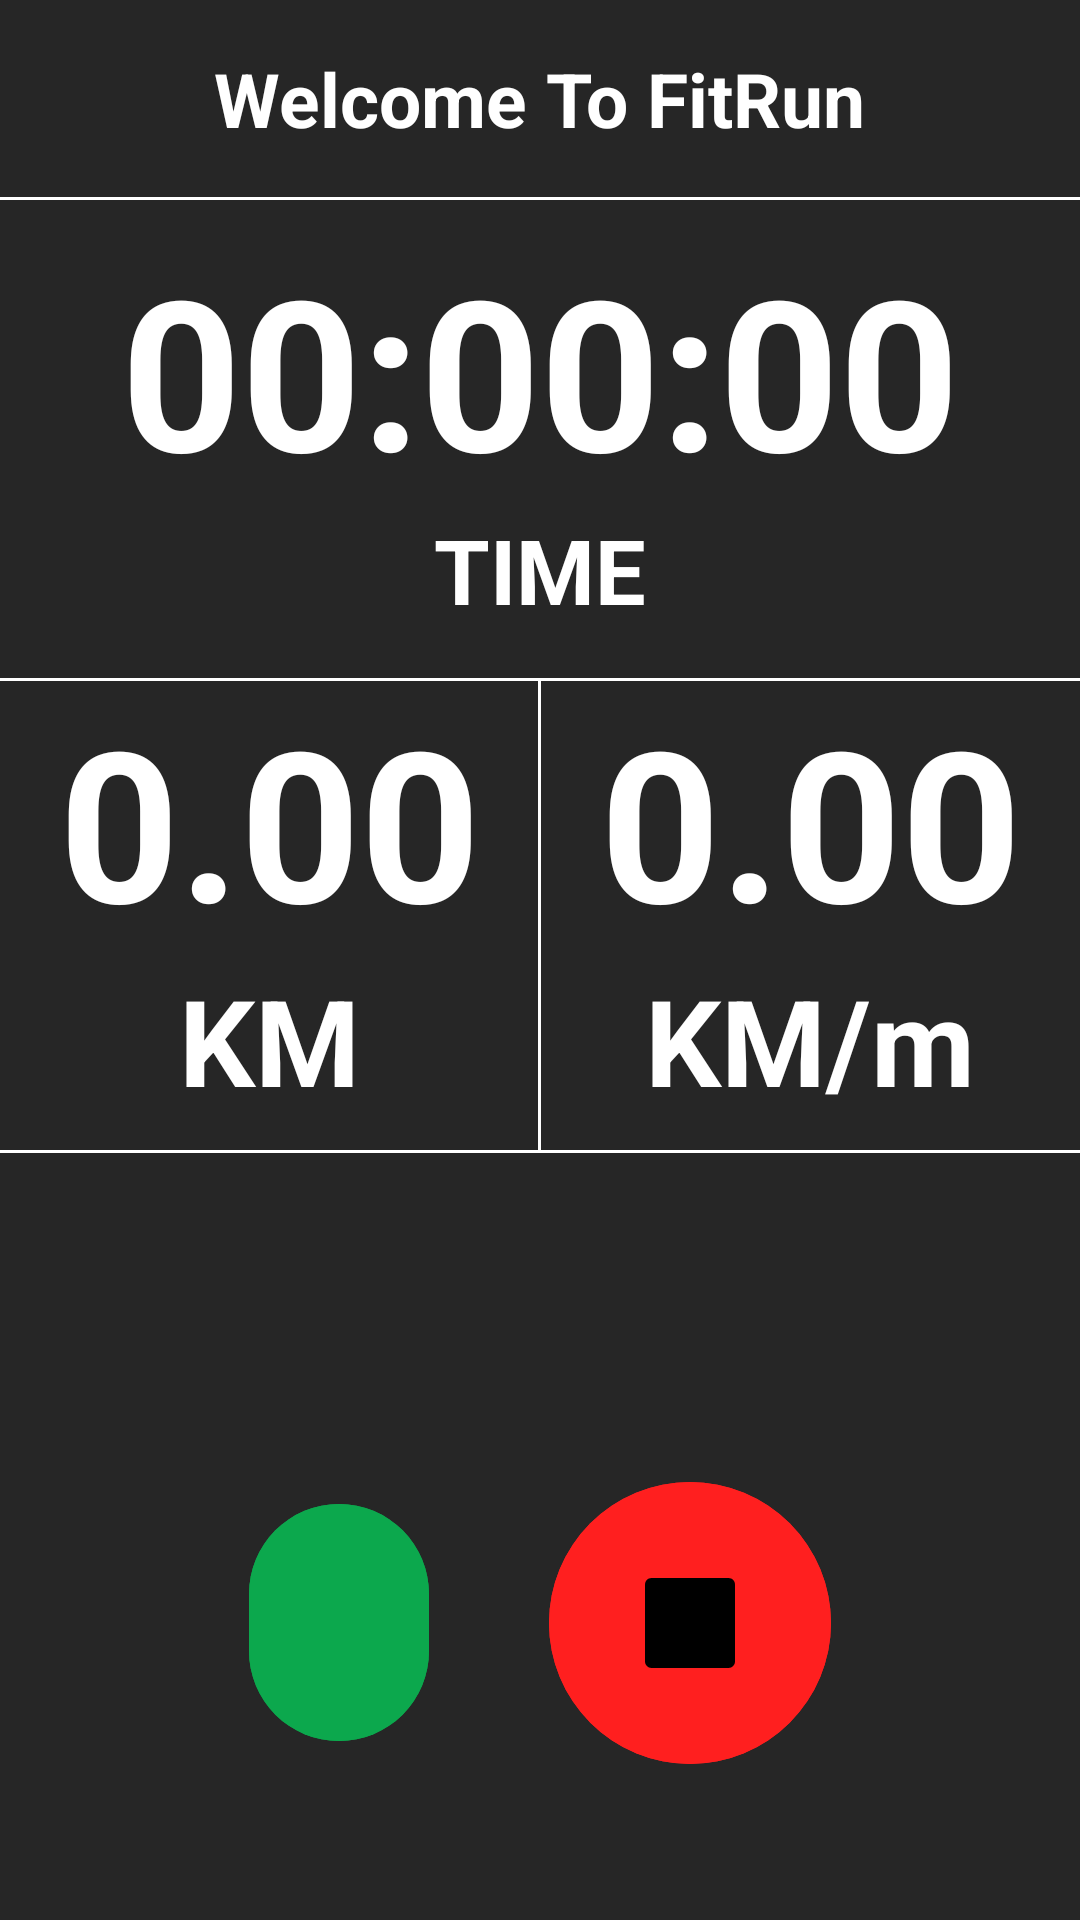

Point at icon controls on the screen. Image size 1080w x 1920h, points as point (x, y).
stop: point (690, 1623)
